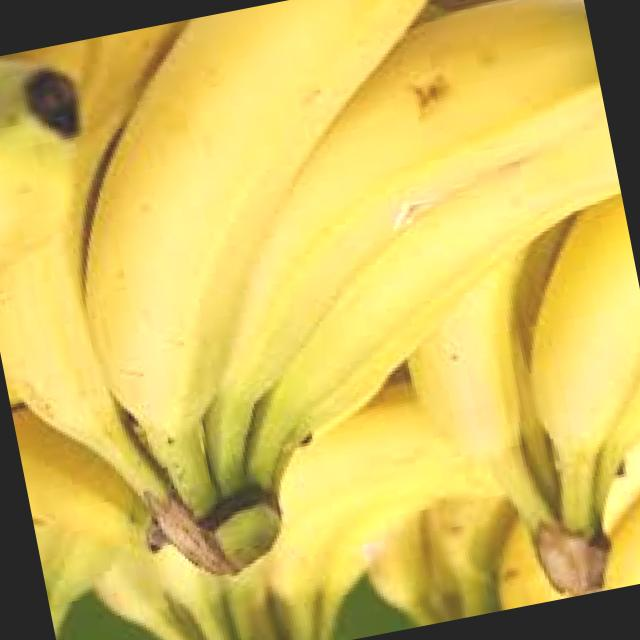Banana: (0, 0, 640, 608), (57, 370, 508, 640), (383, 199, 640, 617)
